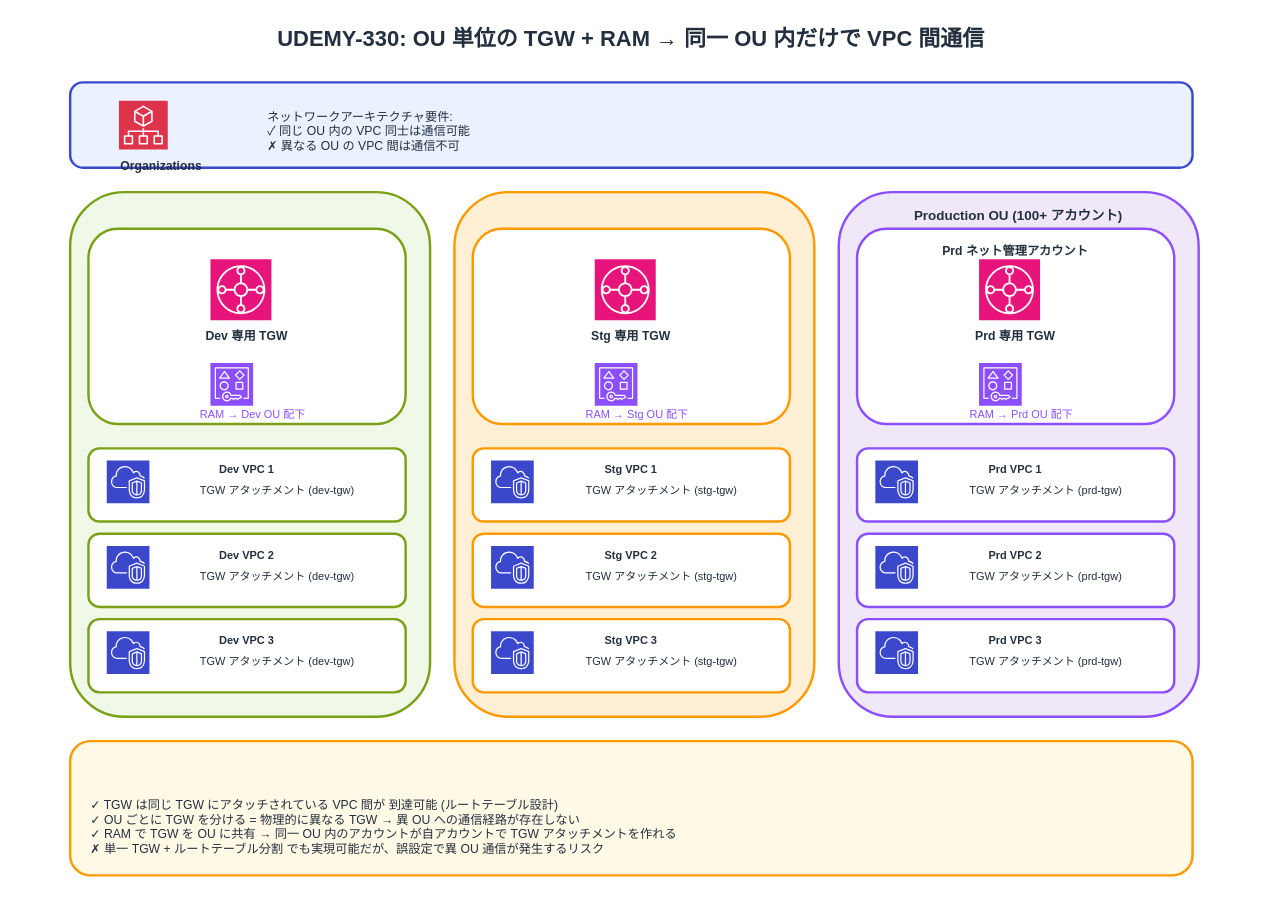
This 1261x897 diagram has some shape labels left out. The box of each missing label's shape, as (x1, y1, x2, y2) in pixels:
Dev OU (100+ アカウント): (68, 190, 431, 717)
Dev ネット管理アカウント: (87, 227, 406, 425)
Organization Root: (68, 81, 1193, 168)
Staging OU (100+ アカウント): (453, 190, 815, 717)
Stg ネット管理アカウント: (471, 227, 791, 425)
🔑 なぜ OU ごとに TGW を分けるのか: (68, 739, 1193, 876)
